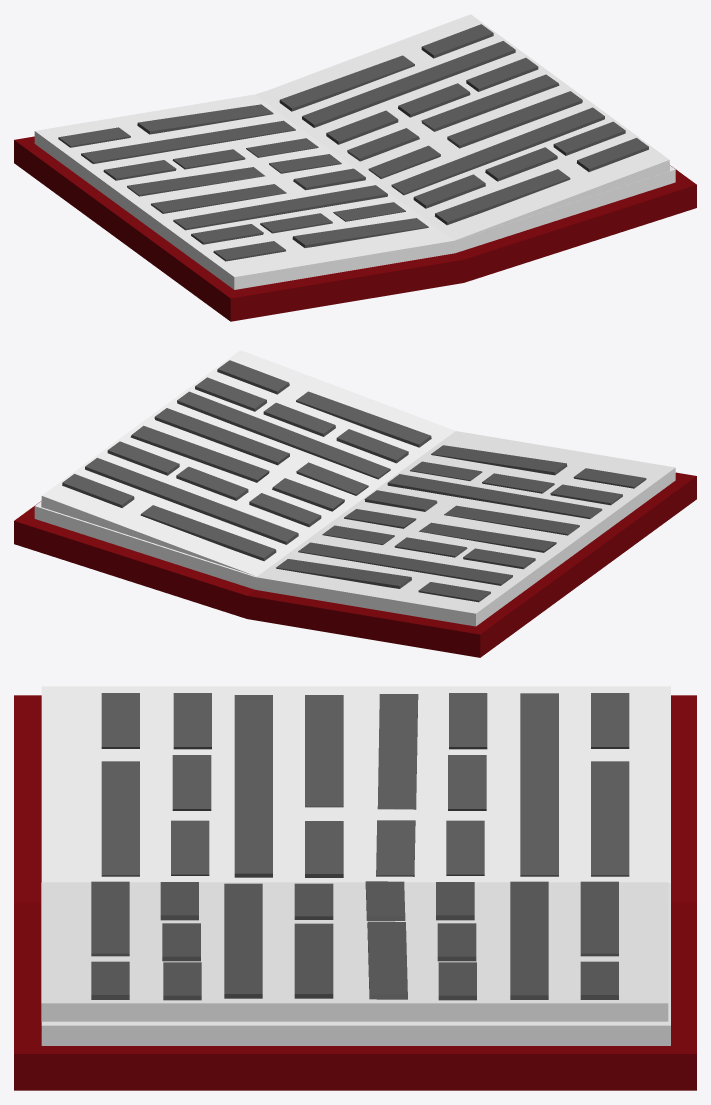
File: Book.fbx
3 renders of one model, top to bottom at view 1: azimuth 30°, elevation 25°; view 2: azimuth 150°, elevation 25°; view 3: azimuth 270°, elevation 25°, orthographic. The views are drawn at different scales.
Visible parts, largest first — view 1: Cube, Cube.002, Cube.001, Cube.018; view 2: Cube, Cube.002, Cube.001, Cube.018; view 3: Cube, Cube.018, Cube.001, Cube.002.
Boxes of the visible parts, <box> form: Cube: <box>14,91,696,321</box>; Cube.002: <box>279,24,648,225</box>; Cube.001: <box>256,14,669,240</box>; Cube.018: <box>58,104,428,261</box>; Cube: <box>14,431,696,657</box>; Cube.002: <box>62,360,431,561</box>; Cube.001: <box>41,350,455,576</box>; Cube.018: <box>276,445,646,602</box>; Cube: <box>14,686,696,1090</box>; Cube.018: <box>101,693,629,877</box>; Cube.001: <box>41,882,668,1021</box>; Cube.002: <box>91,881,618,1000</box>.
Size of the model in its own units: 1987 by 274 by 1600.
Materials: 2 (1 with a texture image).
